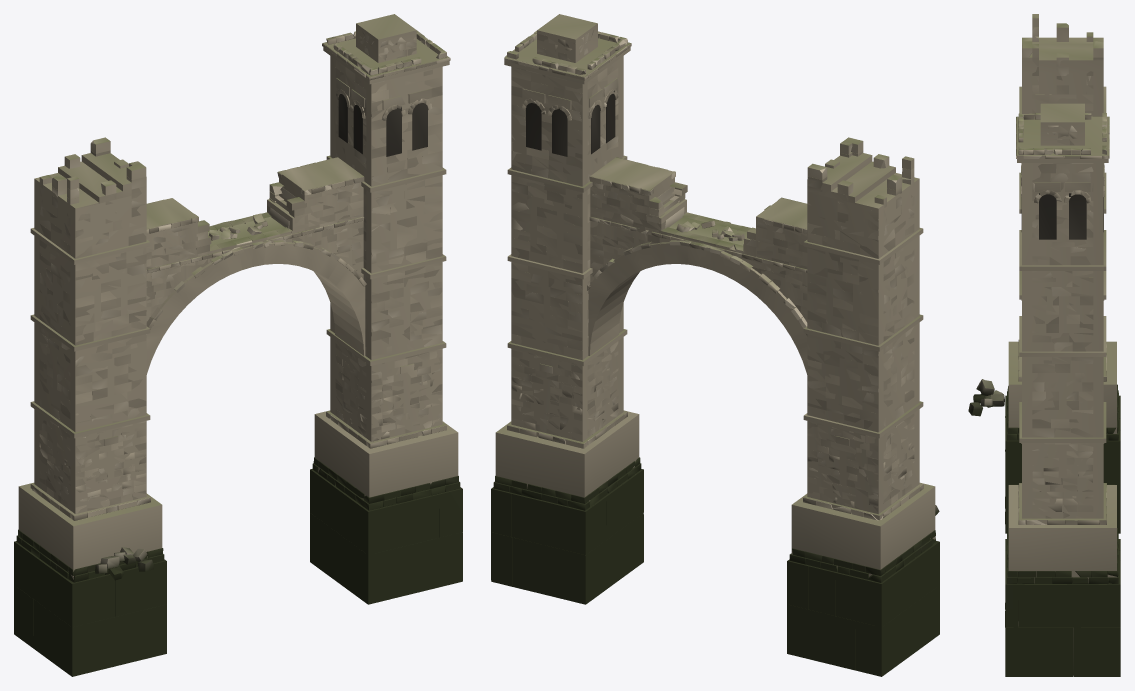
File: harbour_gate.glb
3 renders of one model, left to right at view 1: azimuth 30°, elevation 25°; view 2: azimuth 150°, elevation 25°; view 3: azimuth 270°, elevation 25°, orthographic.
Visible parts, largest first — view 1: harbour_gate_far, harbour_gate; view 2: harbour_gate_far, harbour_gate; view 3: harbour_gate_far, harbour_gate.
Part boxes in pixels (x1,y1,x2,y2): harbour_gate_far: (18,14,458,579); harbour_gate: (14,30,462,676); harbour_gate_far: (495,14,935,576); harbour_gate: (491,29,939,676); harbour_gate_far: (1008,37,1116,675); harbour_gate: (968,14,1120,676).
Size of the model in its own units: 132 by 176 by 44.85.
